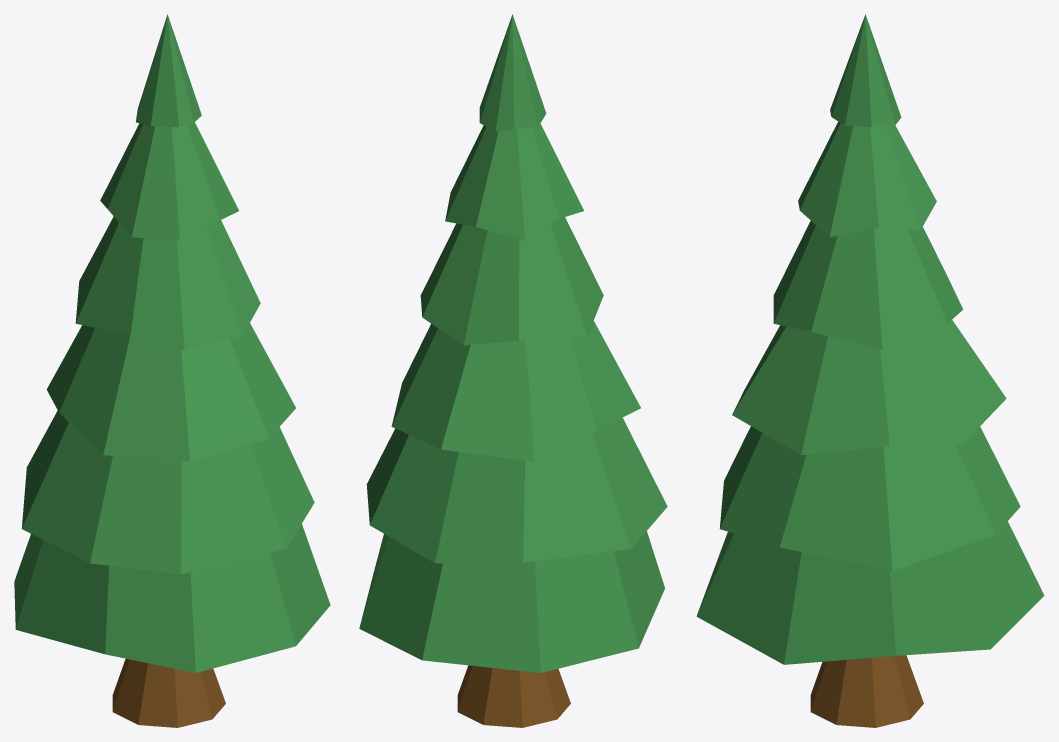
Rendered from Sapins3Tailles.fbx.
3 renders of one model, left to right at view 1: azimuth 30°, elevation 25°; view 2: azimuth 150°, elevation 25°; view 3: azimuth 270°, elevation 25°, orthographic.
Visible parts, largest first — view 1: Cylinder; view 2: Cylinder; view 3: Cylinder.
Boxes of the visible parts, x1,y1,x2,y2 form: Cylinder: [14, 14, 330, 727]; Cylinder: [359, 14, 667, 727]; Cylinder: [696, 14, 1044, 727].
Size of the model in its own units: 384 by 933 by 427.
